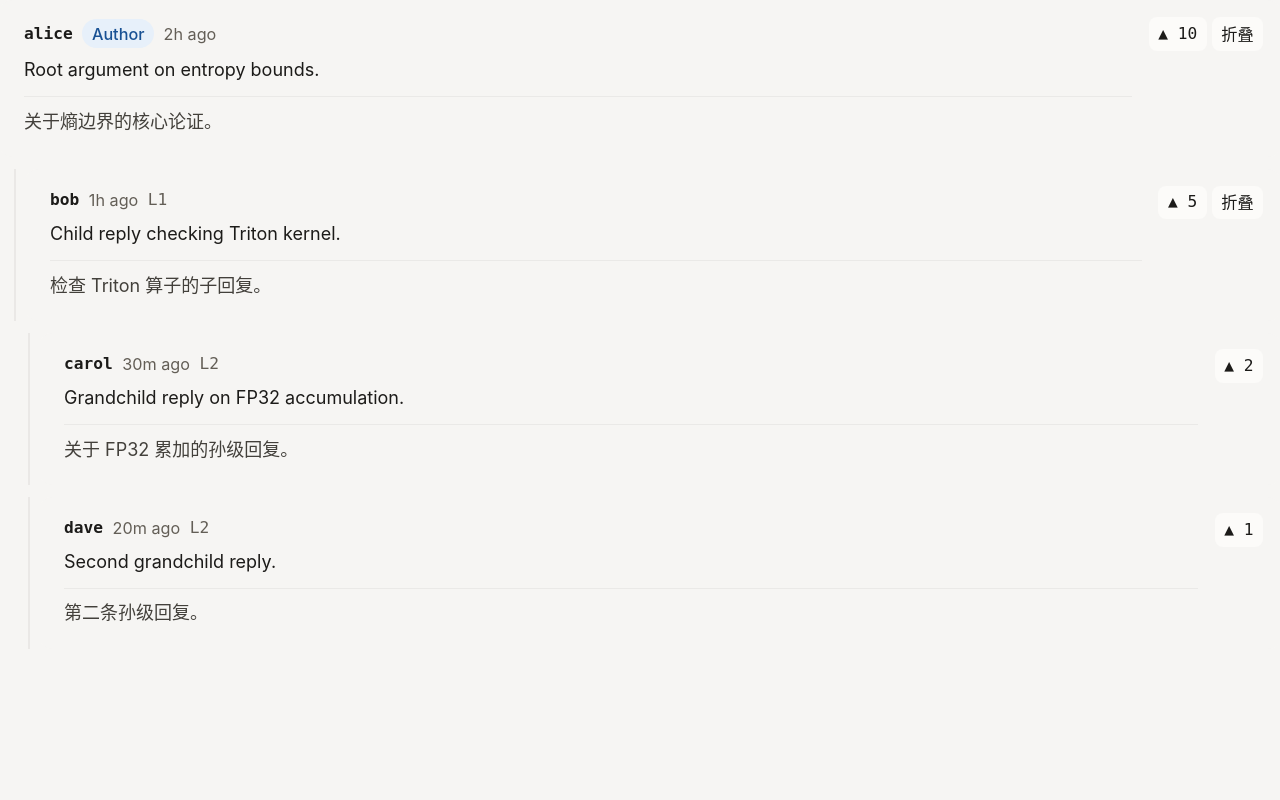
CommentTreeView › renders nested indentation, stable focusIds, recursive descendant count on collapse, and upvotes
Expected: the number of list items is 4, [0, 0, 1279, 157]; [14, 169, 1279, 321]; [28, 333, 1279, 485]; [28, 497, 1279, 649]
Expected: the element that starts with "alice" is shown, [17, 17, 1139, 140]
// Vote increment
Click the button "▲ 10".
click(1178, 34)  # box [1149, 17, 1207, 51]
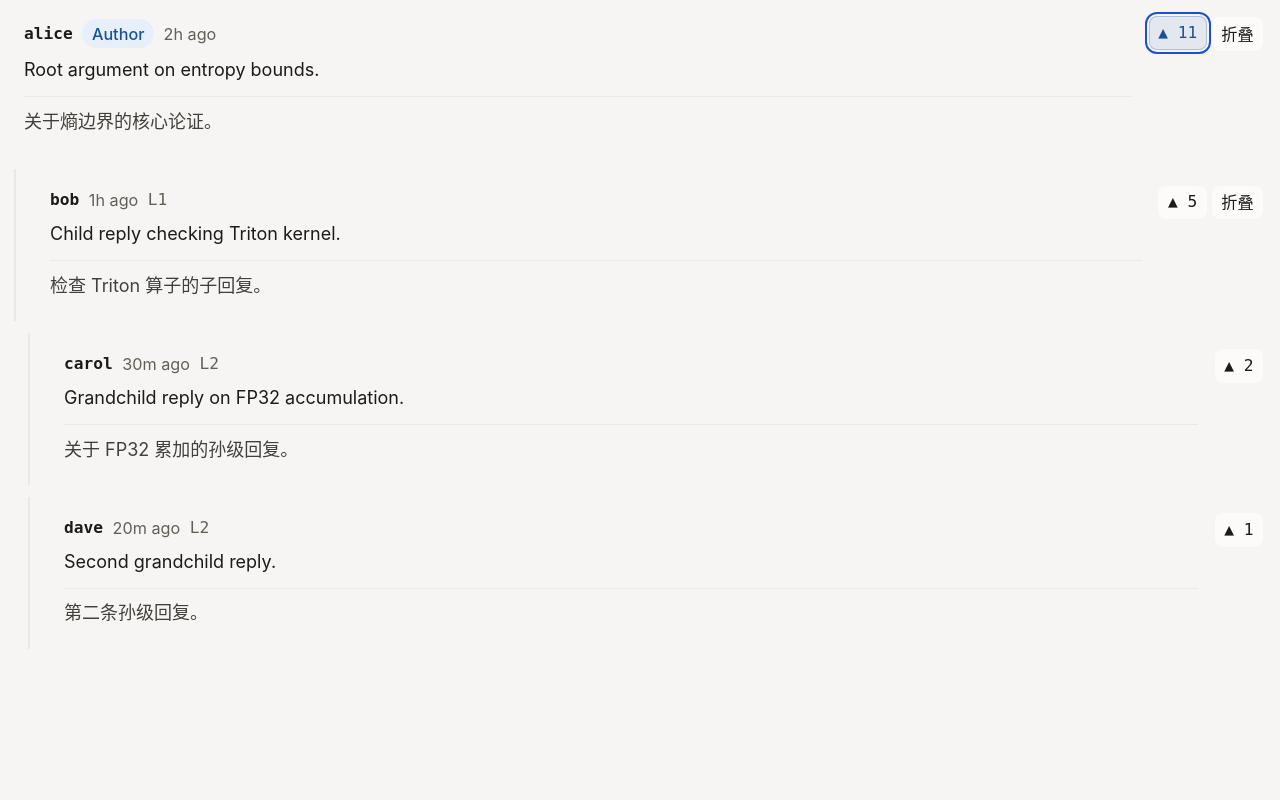
Result: the button "▲ 11" is shown at [1149, 16, 1207, 50]
// Collapse root: hides 3 descendants and shows total descendant count (3)
Click the button "折叠" in the row of "2h ago".
click(1237, 34)  # box [1212, 17, 1263, 51]
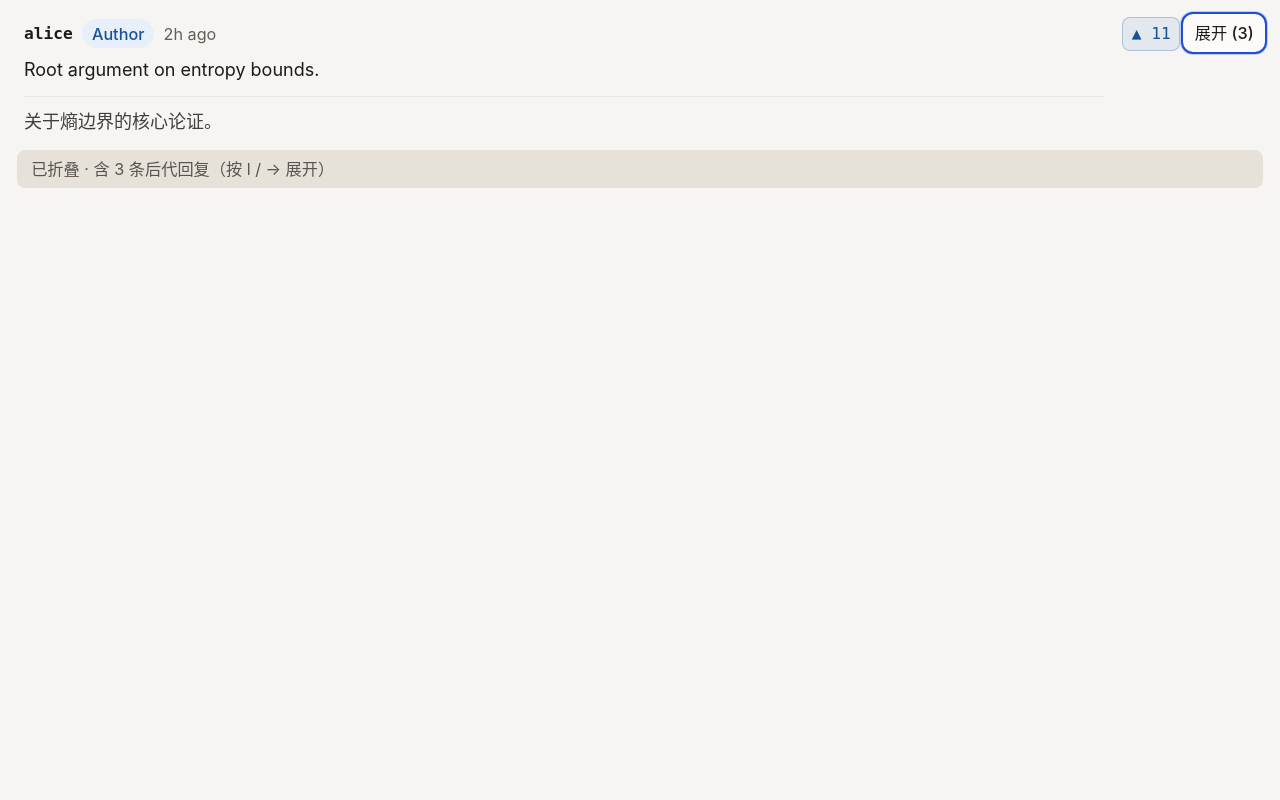
Result: the number of list items is 1 at [0, 0, 1279, 205]
Result: the button "展开 (3)" is shown
Result: the text with test id "comment-collapsed-summary-c1" shows "3 条后代回复" at [17, 150, 1263, 188]
// Expand back
Click the button "展开 (3)".
click(1224, 33)  # box [1185, 16, 1263, 50]
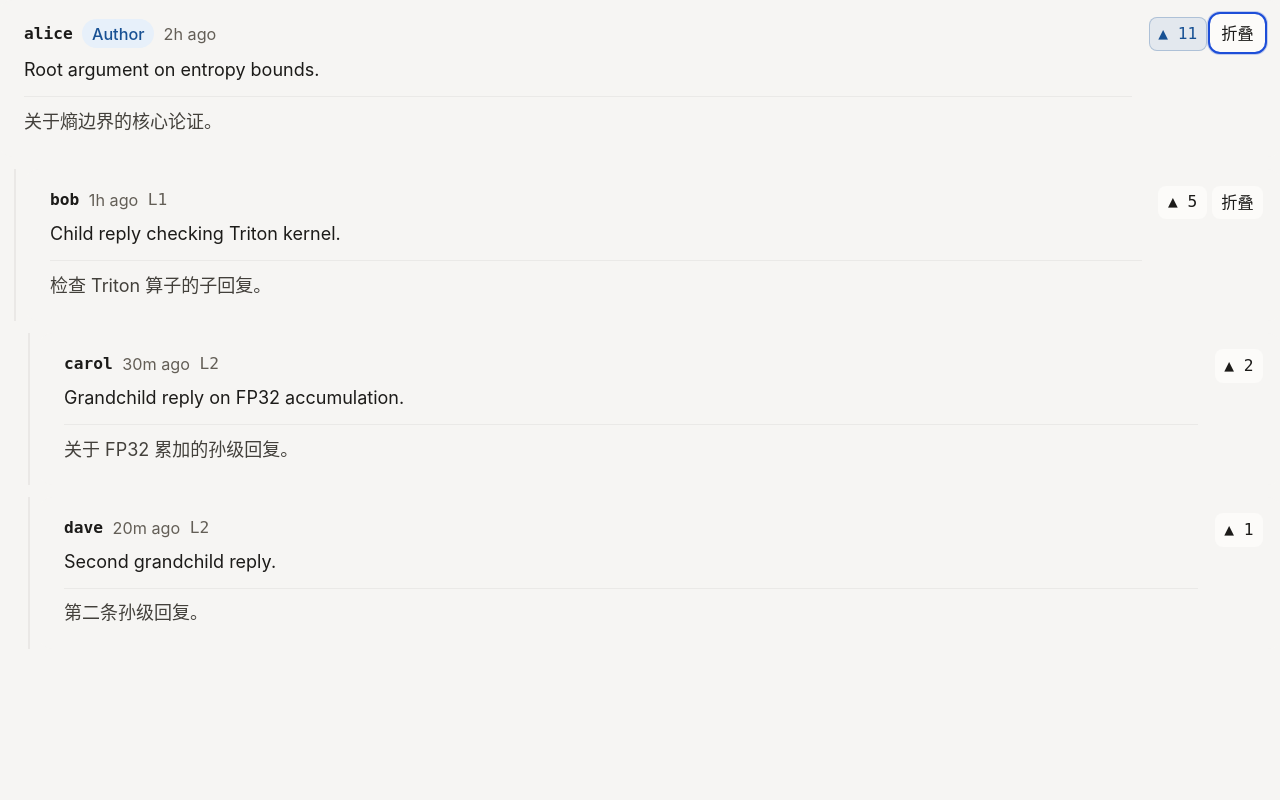
Result: the number of list items is 4 at [0, 0, 1279, 157]; [14, 169, 1279, 321]; [28, 333, 1279, 485]; [28, 497, 1279, 649]
